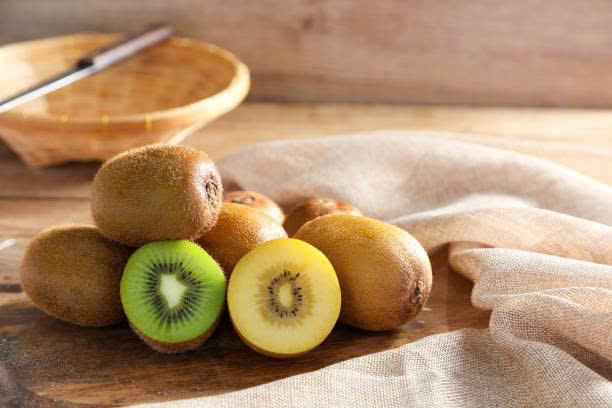kiwi: (225, 229, 347, 365), (89, 140, 225, 239), (115, 234, 224, 356), (311, 215, 436, 321), (20, 225, 118, 329)
